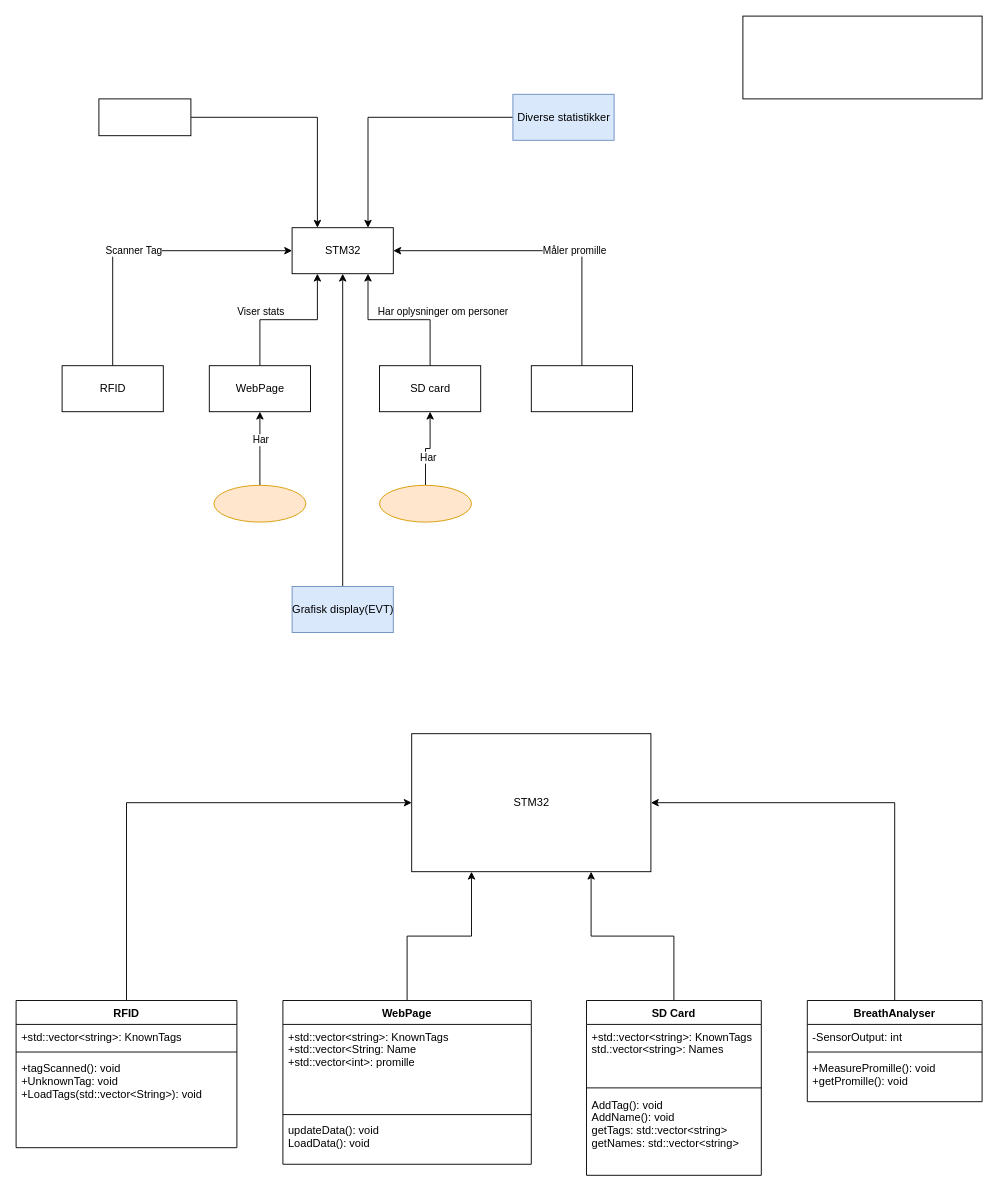
The diagram is 998 pixels wide and 1194 high, and some of its shapes have lost their labels. Each missing label, with the centre of its shape:
"AMS FInal project" belongs at (x=862, y=57).
"Batteripakke (3.3V)" belongs at (x=144, y=117).
"BreathAnalyser Gas sensor" belongs at (x=581, y=388).
"Person ID (Navn, stats)" belongs at (x=259, y=503).
"RFID tag nr" belongs at (x=425, y=503).
